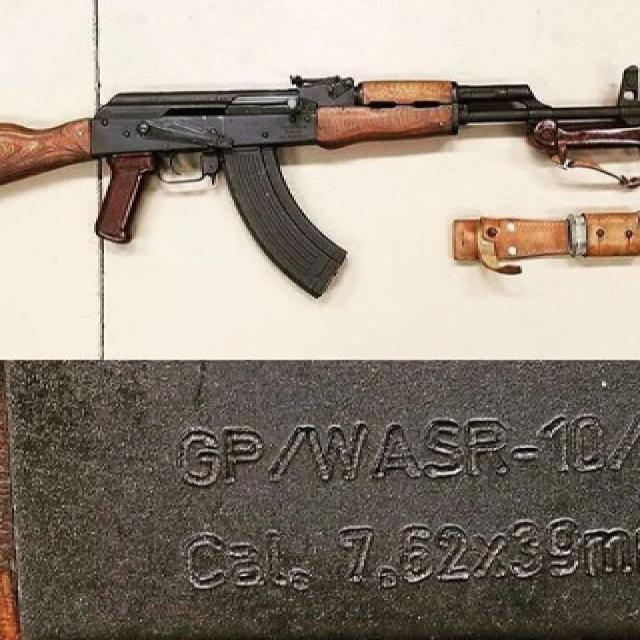weapon: (0, 51, 638, 292)
